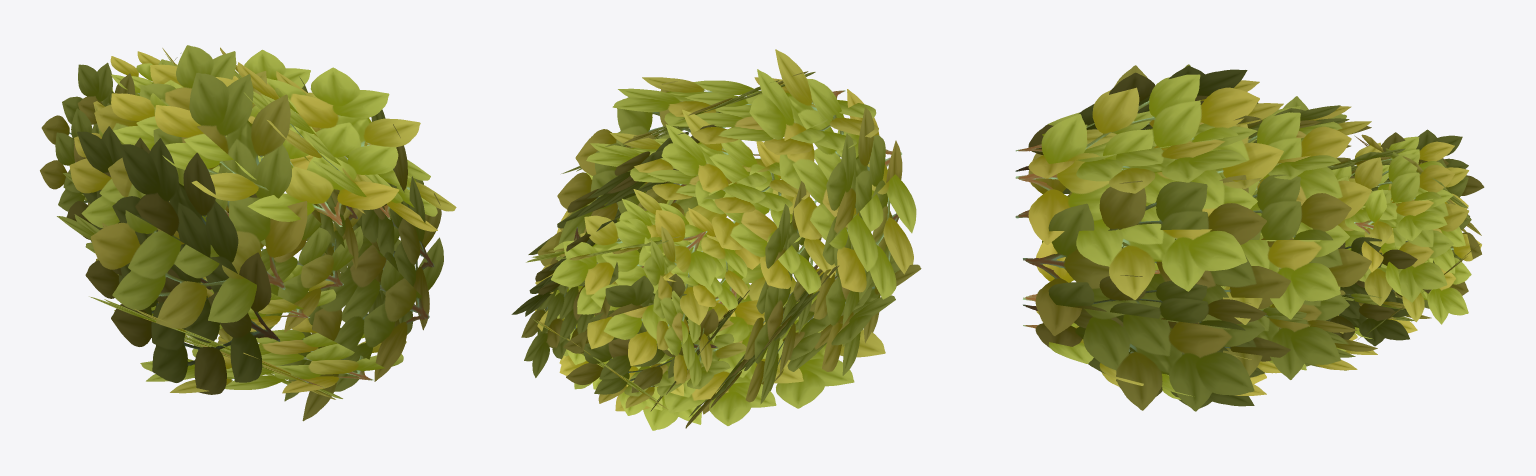
The model's file is bush1.glb.
3 renders of one model, left to right at view 1: azimuth 30°, elevation 25°; view 2: azimuth 150°, elevation 25°; view 3: azimuth 270°, elevation 25°, orthographic. The views are drawn at different scales.
Visible parts, largest first — view 1: bush1; view 2: bush1; view 3: bush1.
Boxes of the visible parts, x1,y1,x2,y2 form: bush1: [40, 45, 456, 421]; bush1: [511, 49, 921, 430]; bush1: [1015, 64, 1484, 411].
Bounding box in the file's own units: 10.69 × 10.68 × 12.96.
Materials: 1 (1 with a texture image).
